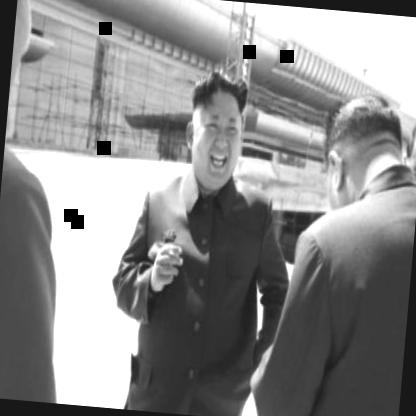head: (314, 83, 416, 221), (180, 62, 255, 196), (404, 113, 416, 194)
